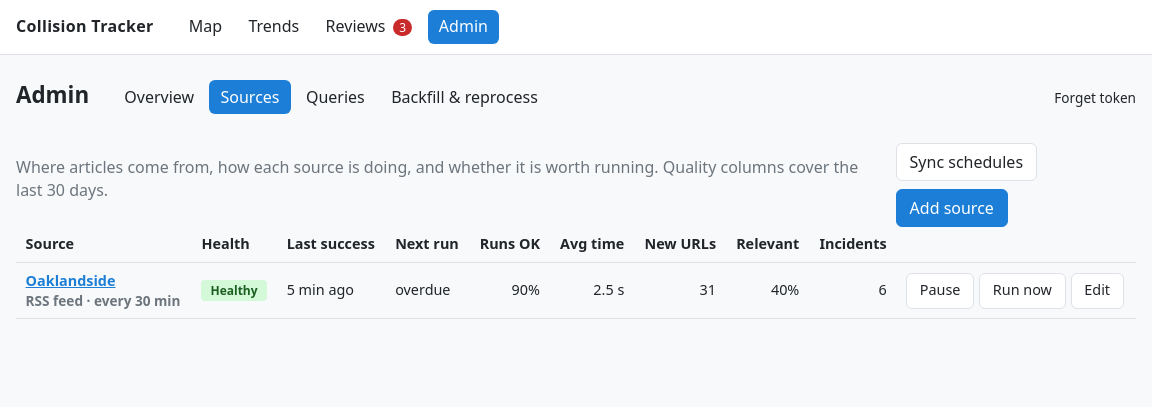
Sources list › syncs schedules and reports what changed
The image size is (1152, 407).
Click the button "Sync schedules".
click(966, 162)  # box [896,143,1037,181]
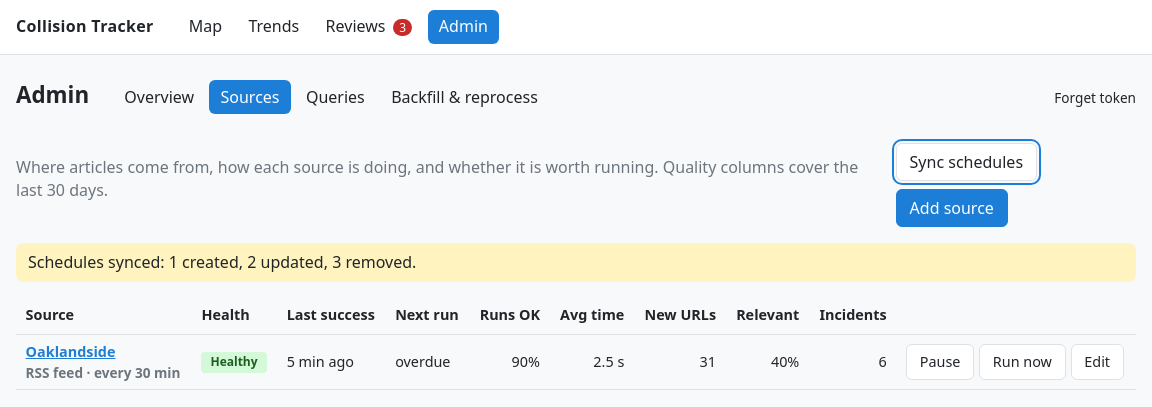
Result: the text "Schedules synced: 1 created, 2 updated, 3 removed." is shown at [16,243,1136,282]
